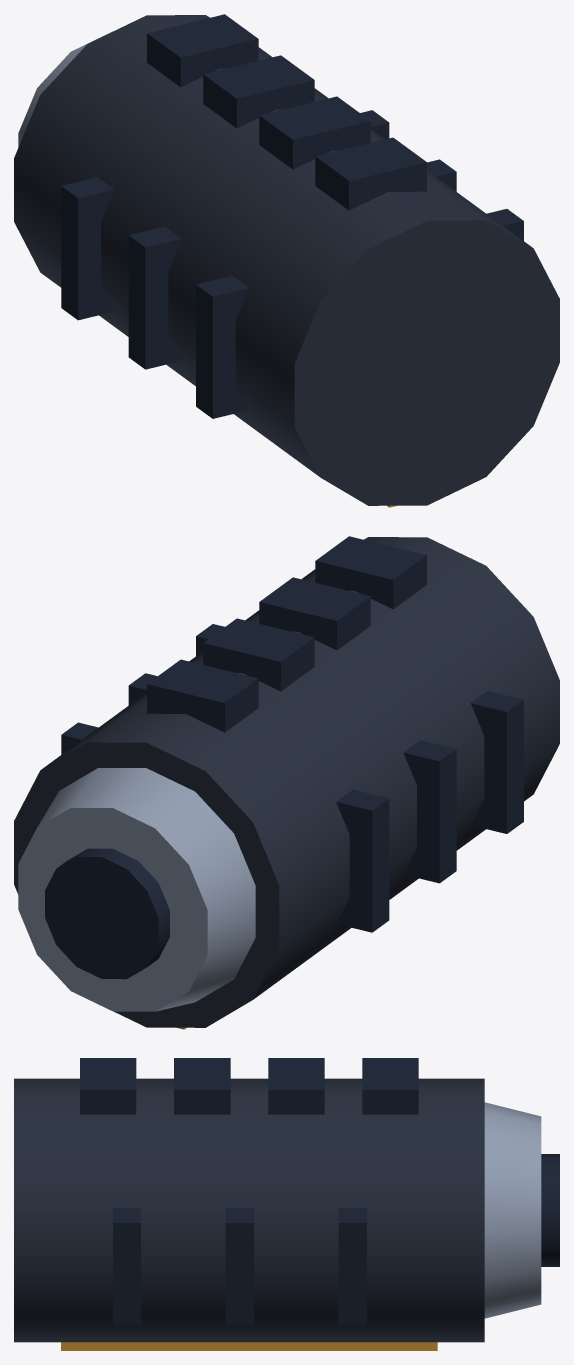
The model's file is attach_compensator.glb.
The picture shows the model from 3 angles, top to bottom: view 1: azimuth 30°, elevation 25°; view 2: azimuth 150°, elevation 25°; view 3: azimuth 270°, elevation 25°; orthographic projection. The views are drawn at different scales.
Visible parts, largest first — view 1: attach_compensator_body, attach_compensator_slot1-1, attach_compensator_slot2-1, attach_compensator_slot0-1, attach_compensator_port0, attach_compensator_port3, attach_compensator_port1, attach_compensator_port2, attach_compensator_crown; view 2: attach_compensator_body, attach_compensator_crown, attach_compensator_bore, attach_compensator_slot2-1, attach_compensator_slot1-1, attach_compensator_slot0-1, attach_compensator_port3, attach_compensator_port0, attach_compensator_port2, attach_compensator_port1; view 3: attach_compensator_body, attach_compensator_crown, attach_compensator_slot11, attach_compensator_slot21, attach_compensator_index, attach_compensator_slot01, attach_compensator_port0, attach_compensator_port1, attach_compensator_port2, attach_compensator_port3, attach_compensator_bore.
Part boxes in pixels (left/top/right/bottom): attach_compensator_body: left=14, top=15, right=559, bottom=505; attach_compensator_slot1-1: left=128, top=226, right=181, bottom=369; attach_compensator_slot2-1: left=61, top=177, right=114, bottom=320; attach_compensator_slot0-1: left=196, top=276, right=248, bottom=418; attach_compensator_port0: left=315, top=137, right=426, bottom=210; attach_compensator_port3: left=147, top=14, right=258, bottom=87; attach_compensator_port1: left=259, top=96, right=370, bottom=169; attach_compensator_port2: left=203, top=55, right=314, bottom=128; attach_compensator_crown: left=18, top=31, right=112, bottom=147; attach_compensator_body: left=14, top=537, right=559, bottom=1027; attach_compensator_crown: left=18, top=768, right=255, bottom=1011; attach_compensator_bore: left=45, top=848, right=169, bottom=979; attach_compensator_slot2-1: left=336, top=789, right=389, bottom=932; attach_compensator_slot1-1: left=403, top=740, right=456, bottom=883; attach_compensator_slot0-1: left=470, top=691, right=523, bottom=833; attach_compensator_port3: left=147, top=659, right=258, bottom=732; attach_compensator_port0: left=315, top=536, right=426, bottom=609; attach_compensator_port2: left=203, top=618, right=314, bottom=691; attach_compensator_port1: left=259, top=577, right=370, bottom=650; attach_compensator_body: left=14, top=1078, right=484, bottom=1342; attach_compensator_crown: left=484, top=1102, right=541, bottom=1318; attach_compensator_slot11: left=225, top=1208, right=253, bottom=1325; attach_compensator_slot21: left=338, top=1208, right=366, bottom=1325; attach_compensator_index: left=61, top=1342, right=437, bottom=1350; attach_compensator_slot01: left=113, top=1208, right=140, bottom=1325; attach_compensator_port0: left=80, top=1058, right=136, bottom=1114; attach_compensator_port1: left=174, top=1058, right=230, bottom=1114; attach_compensator_port2: left=268, top=1058, right=324, bottom=1114; attach_compensator_port3: left=362, top=1058, right=418, bottom=1114; attach_compensator_bore: left=541, top=1154, right=559, bottom=1266.
Size of the model in its own units: 0.032 by 0.032 by 0.058.
